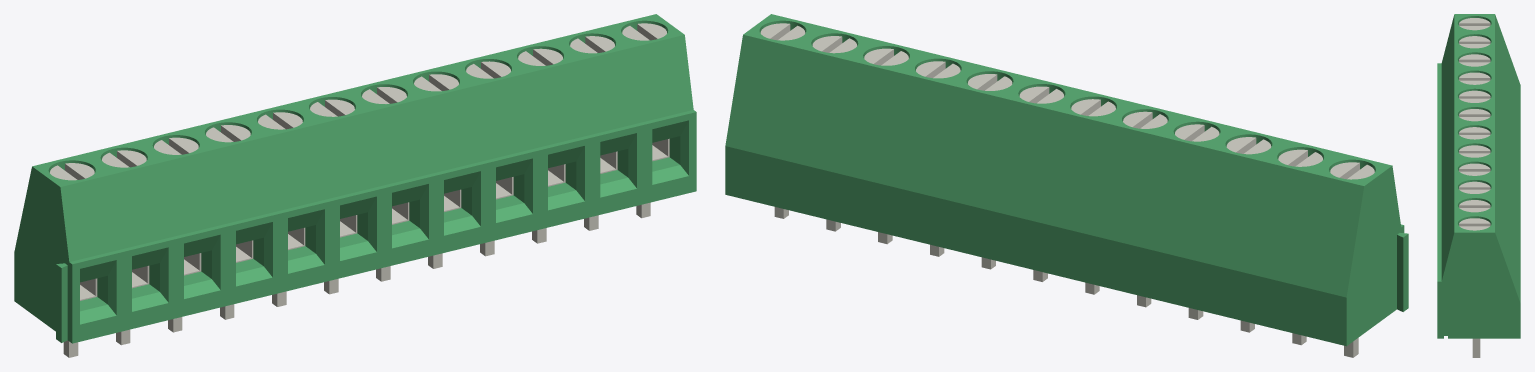
The model's file is kc-terminalblock_phoenix_mkds-1_5-12-5.08_1x12_p5.08mm_horizontal.glb.
The picture shows the model from 3 angles, left to right: view 1: azimuth 30°, elevation 25°; view 2: azimuth 150°, elevation 25°; view 3: azimuth 270°, elevation 25°; orthographic projection. The views are drawn at different scales.
Visible parts, largest first — view 1: 0.08333333333333333_0.4166666666666667_0.16666666666666666_0, 0.6666666666666666_0.6666666666666666_0.5833333333333334_0.8; view 2: 0.08333333333333333_0.4166666666666667_0.16666666666666666_0, 0.6666666666666666_0.6666666666666666_0.5833333333333334_0.8; view 3: 0.08333333333333333_0.4166666666666667_0.16666666666666666_0, 0.6666666666666666_0.6666666666666666_0.5833333333333334_0.8.
Part boxes in pixels (left/top/right/bottom): 0.08333333333333333_0.4166666666666667_0.16666666666666666_0: left=14, top=14, right=696, bottom=343; 0.6666666666666666_0.6666666666666666_0.5833333333333334_0.8: left=49, top=23, right=669, bottom=357; 0.08333333333333333_0.4166666666666667_0.16666666666666666_0: left=725, top=14, right=1408, bottom=346; 0.6666666666666666_0.6666666666666666_0.5833333333333334_0.8: left=760, top=23, right=1374, bottom=357; 0.08333333333333333_0.4166666666666667_0.16666666666666666_0: left=1437, top=14, right=1520, bottom=338; 0.6666666666666666_0.6666666666666666_0.5833333333333334_0.8: left=1459, top=18, right=1490, bottom=357.
Bounding box in the file's own units: 6.17 × 1.73 × 0.9799.
